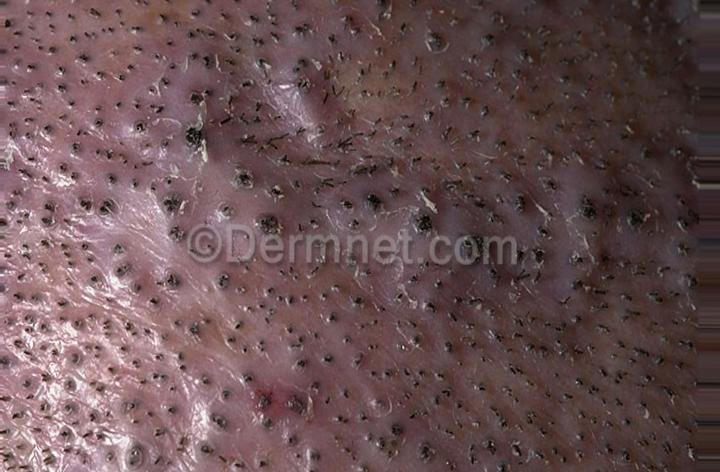Folliculitis: (219, 35, 421, 182), (247, 382, 319, 425)
